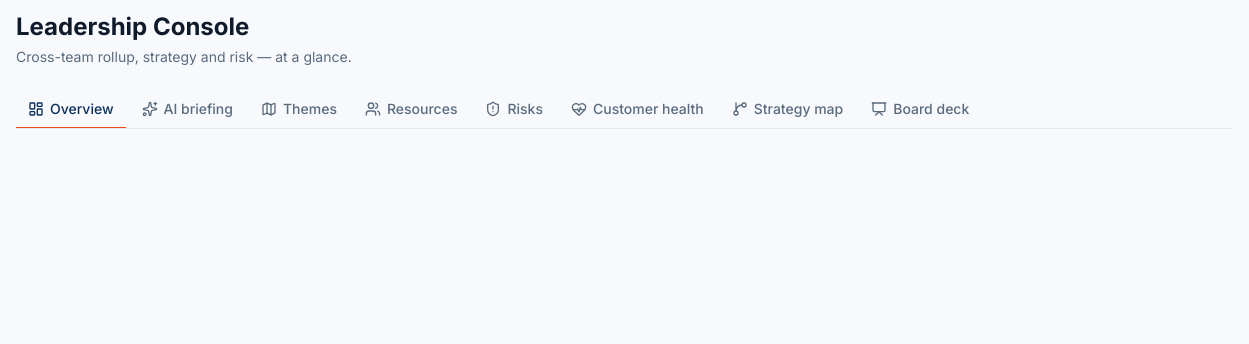
Test: LeadershipConsoleView › generates an executive briefing through the AI control plane
This screenshot has width=1249, height=344.
Step 1. Click the tab "AI briefing" → point(187, 110), box 130,91 -> 245,129
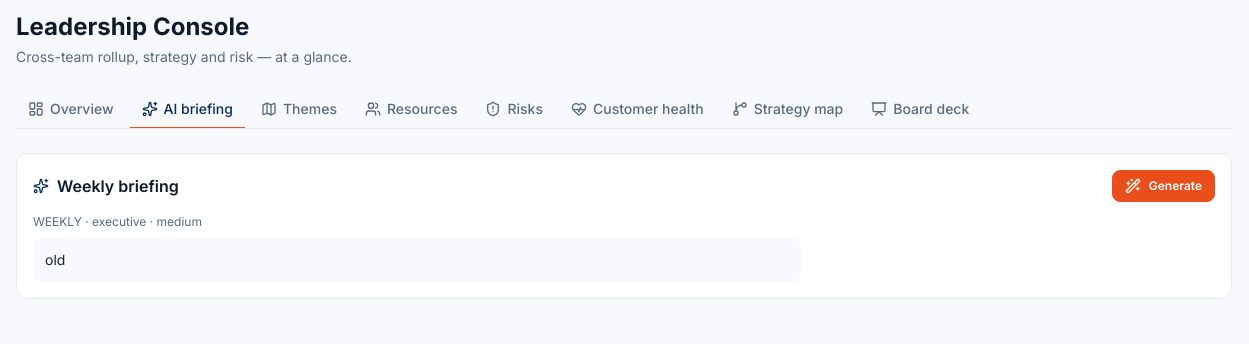
Step 2. Click the button "Generate" → point(1163, 186), box 1112,170 -> 1215,202
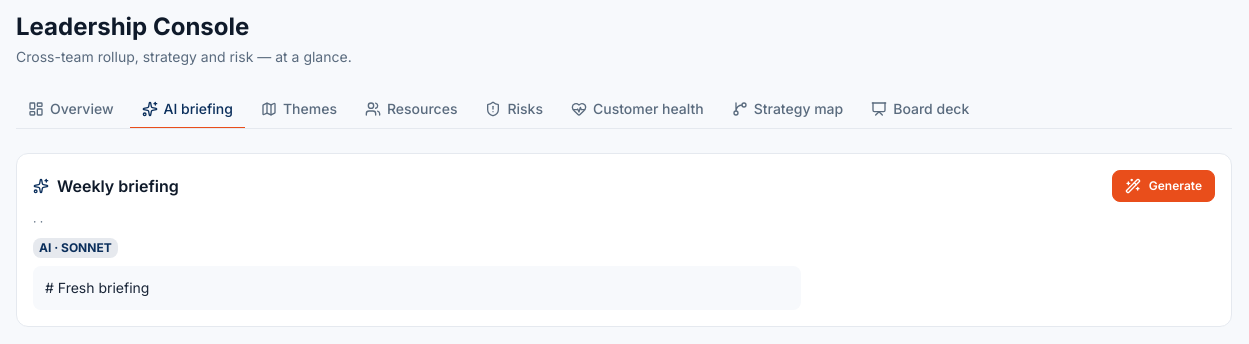
Check: the text "# Fresh briefing" is shown, box 33,266 -> 801,310
